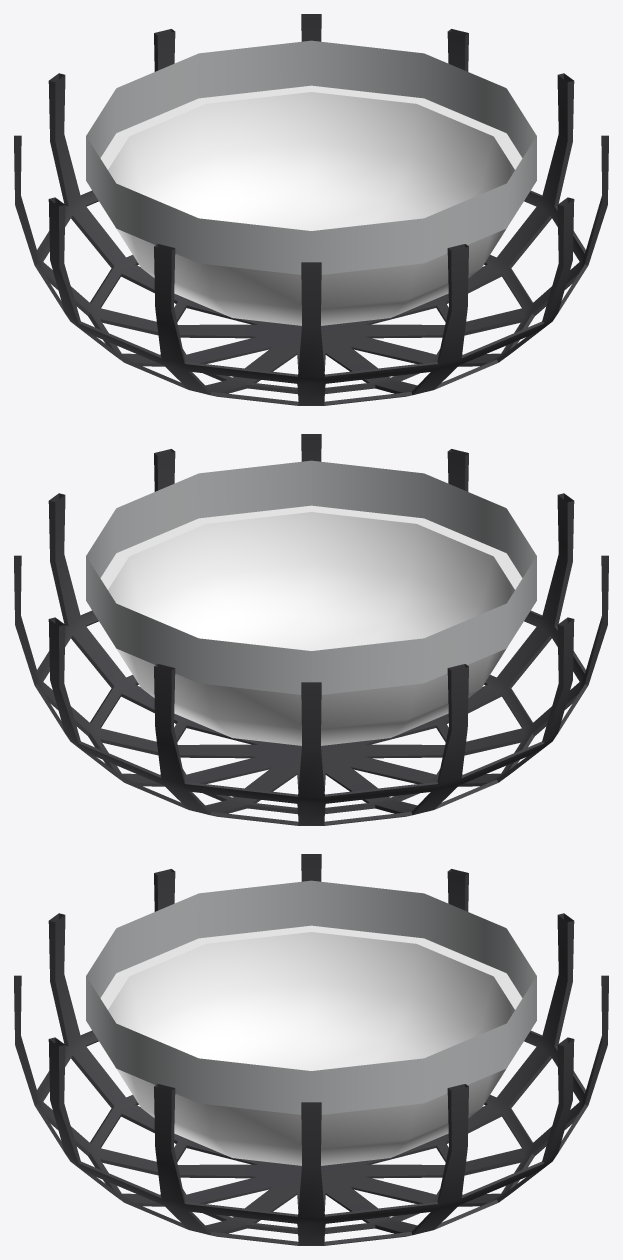
File: SM_Buildings_Ceiling_Light_Small.fbx
The picture shows the model from 3 angles, top to bottom: view 1: azimuth 30°, elevation 25°; view 2: azimuth 150°, elevation 25°; view 3: azimuth 270°, elevation 25°; orthographic projection.
Parts seen in each view (by area): view 1: SM_Buildings_Ceiling_Light_Small; view 2: SM_Buildings_Ceiling_Light_Small; view 3: SM_Buildings_Ceiling_Light_Small.
Boxes of the visible parts, box(x1,y1,x2,y2) form: SM_Buildings_Ceiling_Light_Small: box(14, 14, 608, 405); SM_Buildings_Ceiling_Light_Small: box(14, 434, 608, 825); SM_Buildings_Ceiling_Light_Small: box(14, 854, 608, 1245).
Bounding box in the file's own units: 62.86 × 22.93 × 62.86.
Materials: 1 (1 with a texture image).
